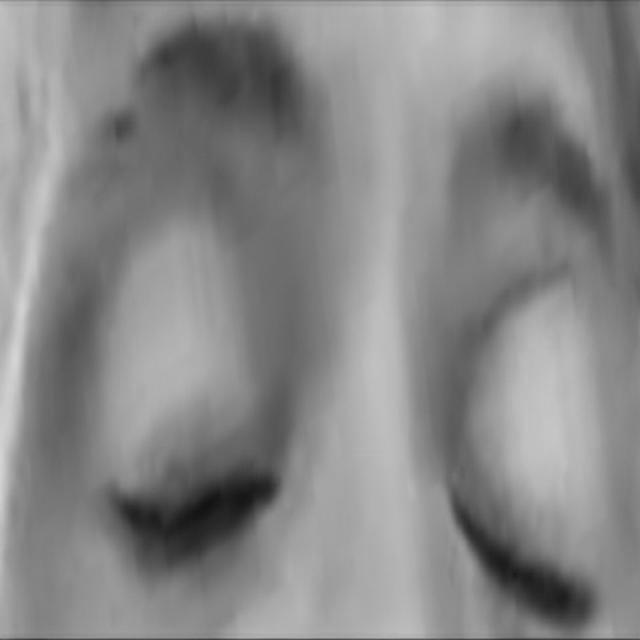real: (75, 168, 611, 623)
